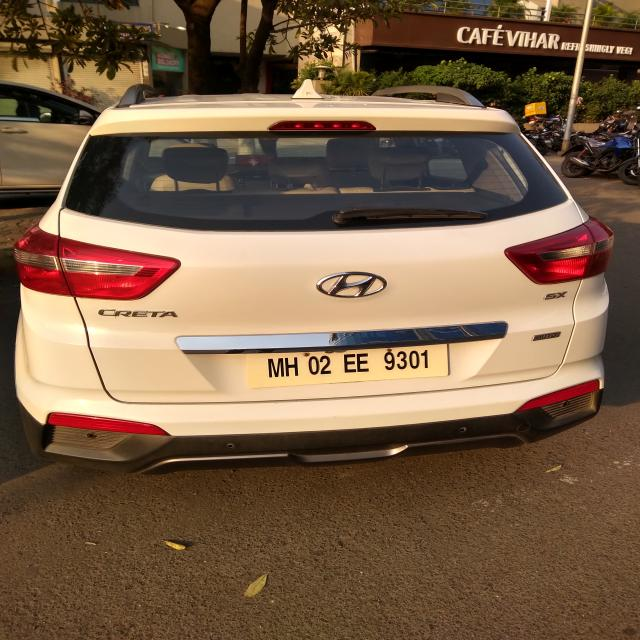Number-Plate: (256, 348, 451, 384)
